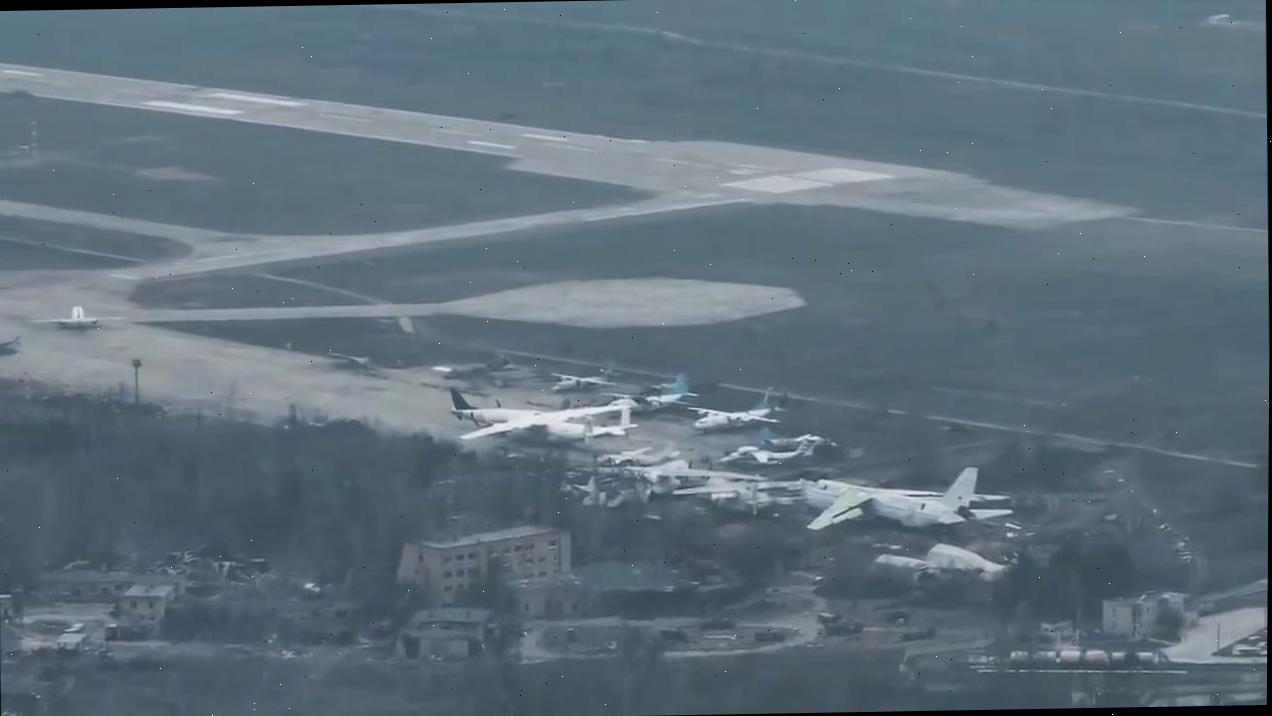plane: (805, 466, 1015, 534), (457, 402, 635, 446), (572, 457, 759, 492), (671, 474, 804, 516), (717, 433, 833, 476), (685, 386, 787, 432), (599, 372, 696, 416), (29, 304, 130, 328), (552, 367, 615, 394)
